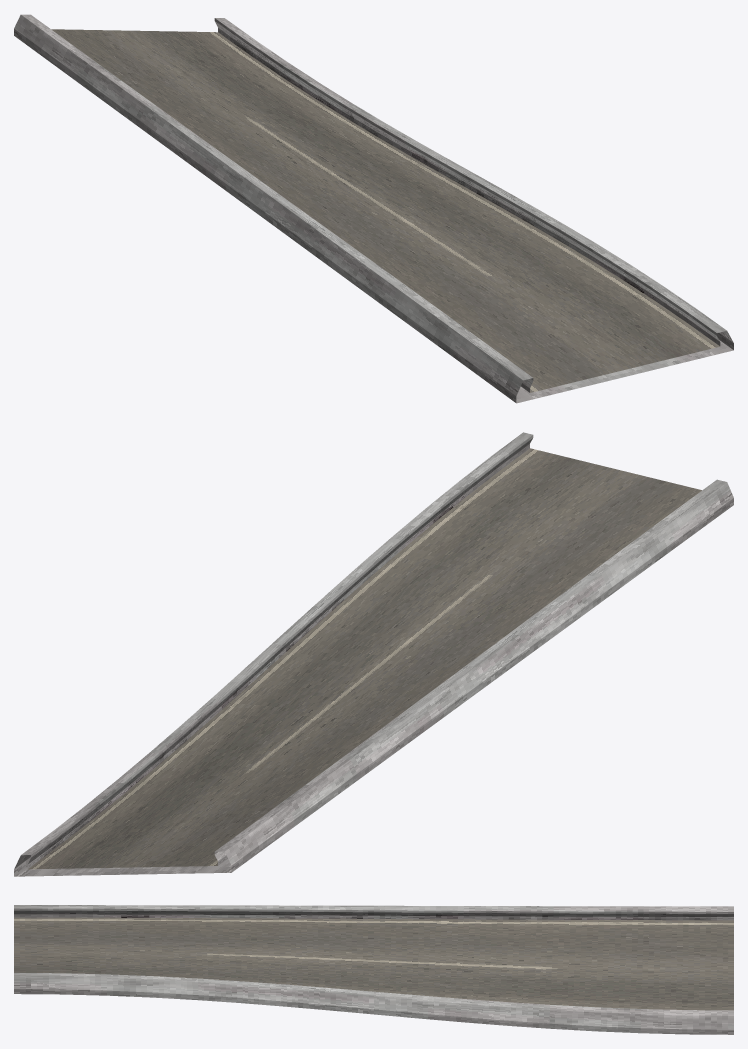
Rendered from road-Straight-Flat-HalfBankedRight-Down1-Center-Size4.glb.
3 views of the same model, one above another, from view 1: azimuth 30°, elevation 25°; view 2: azimuth 150°, elevation 25°; view 3: azimuth 270°, elevation 25° (orthographic). The views are drawn at different scales.
Visible parts, largest first — view 1: road-Straight-Flat-HalfBankedRight-Down1-Center-Size4; view 2: road-Straight-Flat-HalfBankedRight-Down1-Center-Size4; view 3: road-Straight-Flat-HalfBankedRight-Down1-Center-Size4.
Boxes of the visible parts, x1,y1,x2,y2 form: road-Straight-Flat-HalfBankedRight-Down1-Center-Size4: [14, 14, 733, 403]; road-Straight-Flat-HalfBankedRight-Down1-Center-Size4: [14, 432, 733, 876]; road-Straight-Flat-HalfBankedRight-Down1-Center-Size4: [14, 905, 733, 1034].
Size of the model in its own units: 1 by 0.3438 by 4.
Materials: 2 (2 with a texture image).
